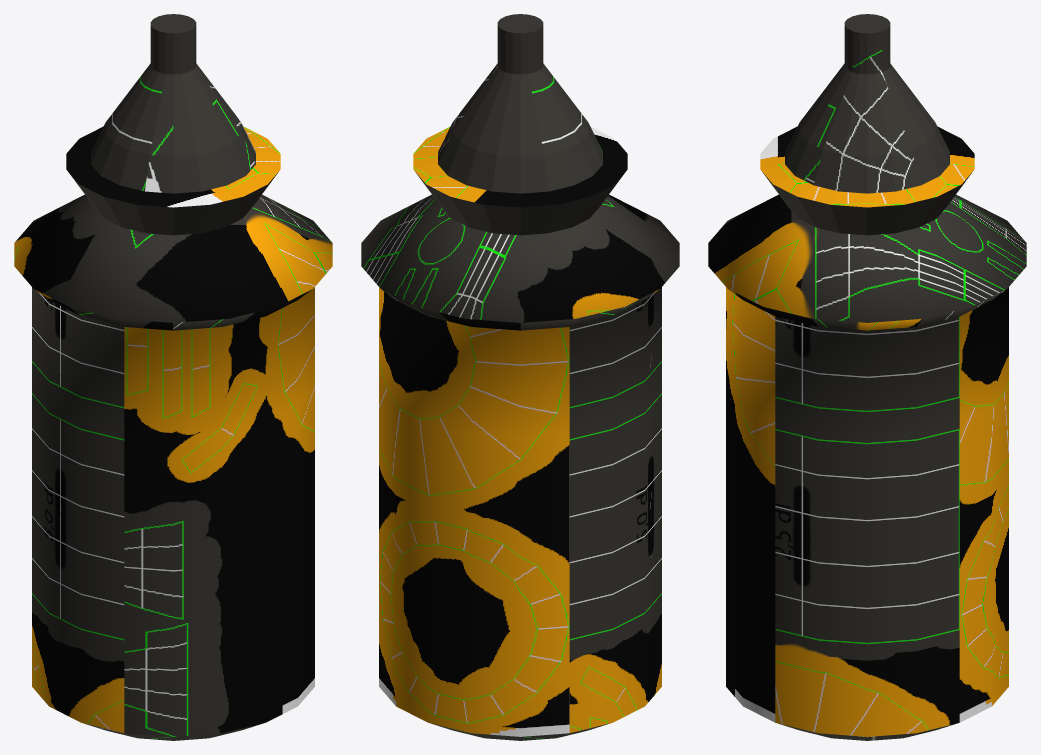
Rendered from feedingbottle.FBX.
3 views of the same model, side by side, from view 1: azimuth 30°, elevation 25°; view 2: azimuth 150°, elevation 25°; view 3: azimuth 270°, elevation 25° (orthographic).
Visible parts, largest first — view 1: Cylinder001; view 2: Cylinder001; view 3: Cylinder001.
Part boxes in pixels (bbox=[...]): Cylinder001: bbox=[14, 14, 332, 740]; Cylinder001: bbox=[361, 14, 679, 740]; Cylinder001: bbox=[708, 14, 1026, 740].
Size of the model in its own units: 10.79 by 25.56 by 10.63.
